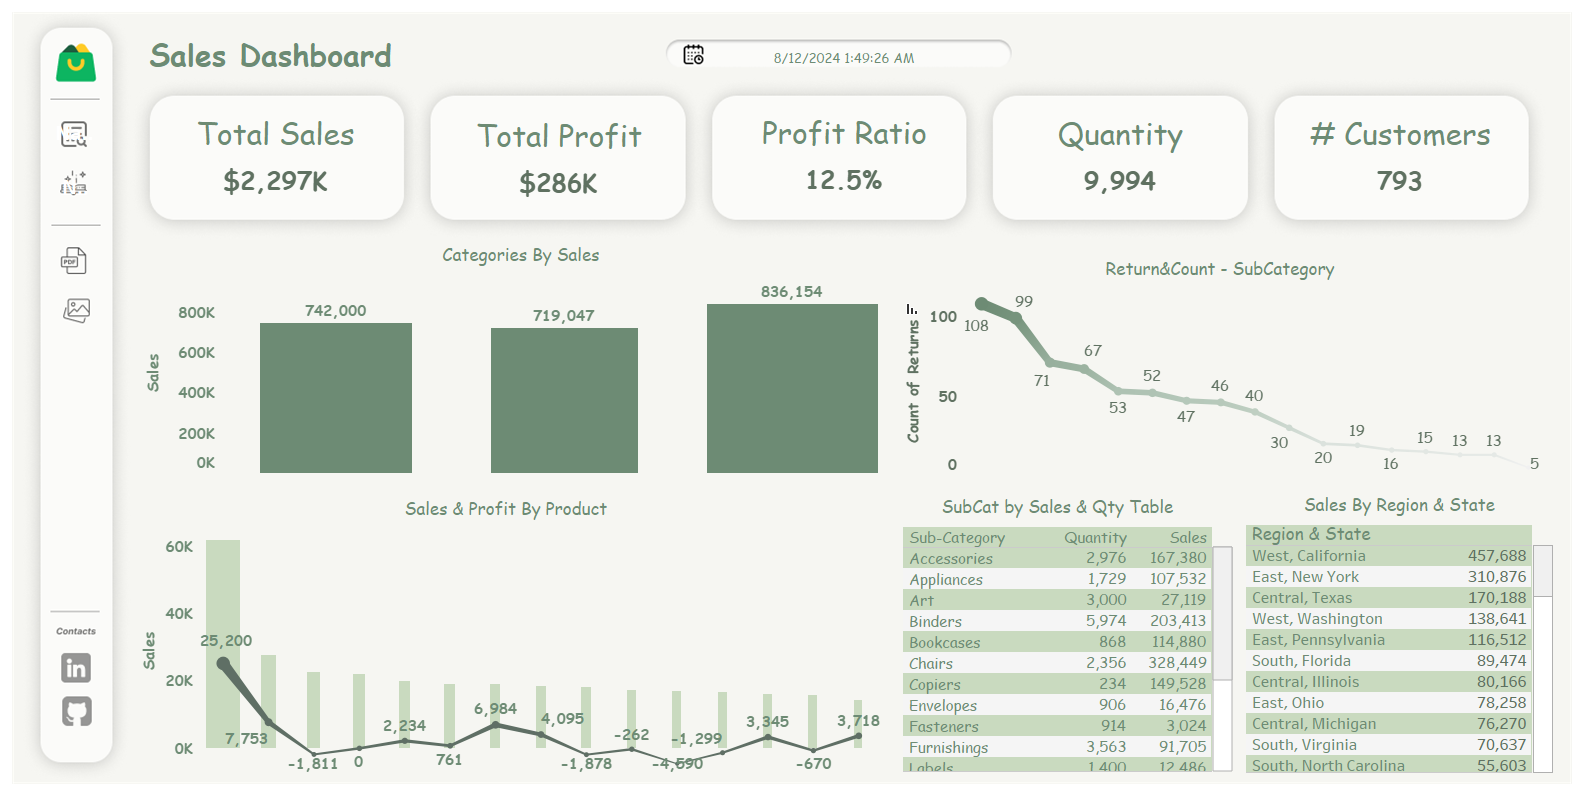

This screenshot's page, from the dashboard's own definition file:
{"tool":"tableau","page":{"name":"SalesDashboard","canvas":[1584,800],"ordinal":1},"visuals":[{"type":"image","param":"Image/pro (4).png","box":[8,8,1568,784]},{"type":"title","box":[146,18,358,72]},{"type":"worksheet","title":"Time","mark":"Automatic","box":[734,43,220,24]},{"type":"worksheet","title":"ProfitRatio","mark":"Automatic","box":[748,105,193,104]},{"type":"worksheet","title":"Total Sales","mark":"Automatic","box":[179,106,193,105]},{"type":"worksheet","title":"Quantity","mark":"Automatic","box":[1024,106,193,104]},{"type":"worksheet","title":"# Customers","mark":"Automatic","box":[1304,106,193,104]},{"type":"worksheet","title":"Total Profit1","mark":"Automatic","box":[462,108,194,104]},{"type":"dashboard-object","box":[54,113,41,38]},{"type":"dashboard-object","box":[60,169,31,33]},{"type":"worksheet","title":"Categories By Sales","mark":"Automatic","rows":["Sales"],"cols":["Category"],"box":[135,236,772,237]},{"type":"dashboard-object","box":[55,240,37,37]},{"type":"worksheet","title":"Return&Count - SubCategory","mark":"Line","rows":["Returns_572F89D2A19A407B9E79934F8DBD57A8"],"cols":["Sub-Category"],"box":[895,250,650,225]},{"type":"dashboard-object","box":[58,293,38,33]},{"type":"worksheet","title":"Sales By Region & State","mark":"Automatic","rows":["Calculation_1694197934154985475"],"box":[1246,486,307,287]},{"type":"worksheet","title":"SubCat by Sales & Qty Table","mark":"Automatic","rows":["Sub-Category"],"box":[903,488,332,284]},{"type":"worksheet","title":"Sales & Profit By Product","mark":"Bar","rows":["Sales","Profit"],"cols":["Product Name"],"box":[131,490,750,285]},{"type":"image","box":[54,652,42,31]},{"type":"image","box":[56,694,37,32]}]}

Visuals, with their boxes on the page's 1584x800 design canvas (x1, y1, x2, y2). These are canvas units, not pixel positions in the 1584x800 screenshot, which may show the page scaled, cropped or inside an application window:
image: 8:8:1576:792
title: 146:18:504:90
"Time" worksheet: 734:43:954:67
"ProfitRatio" worksheet: 748:105:941:209
"Total Sales" worksheet: 179:106:372:211
"Quantity" worksheet: 1024:106:1217:210
"# Customers" worksheet: 1304:106:1497:210
"Total Profit1" worksheet: 462:108:656:212
dashboard-object: 54:113:95:151
dashboard-object: 60:169:91:202
"Categories By Sales" worksheet: 135:236:907:473
dashboard-object: 55:240:92:277
"Return&Count - SubCategory" worksheet (Line marks): 895:250:1545:475
dashboard-object: 58:293:96:326
"Sales By Region & State" worksheet: 1246:486:1553:773
"SubCat by Sales & Qty Table" worksheet: 903:488:1235:772
"Sales & Profit By Product" worksheet (Bar marks): 131:490:881:775
image: 54:652:96:683
image: 56:694:93:726
